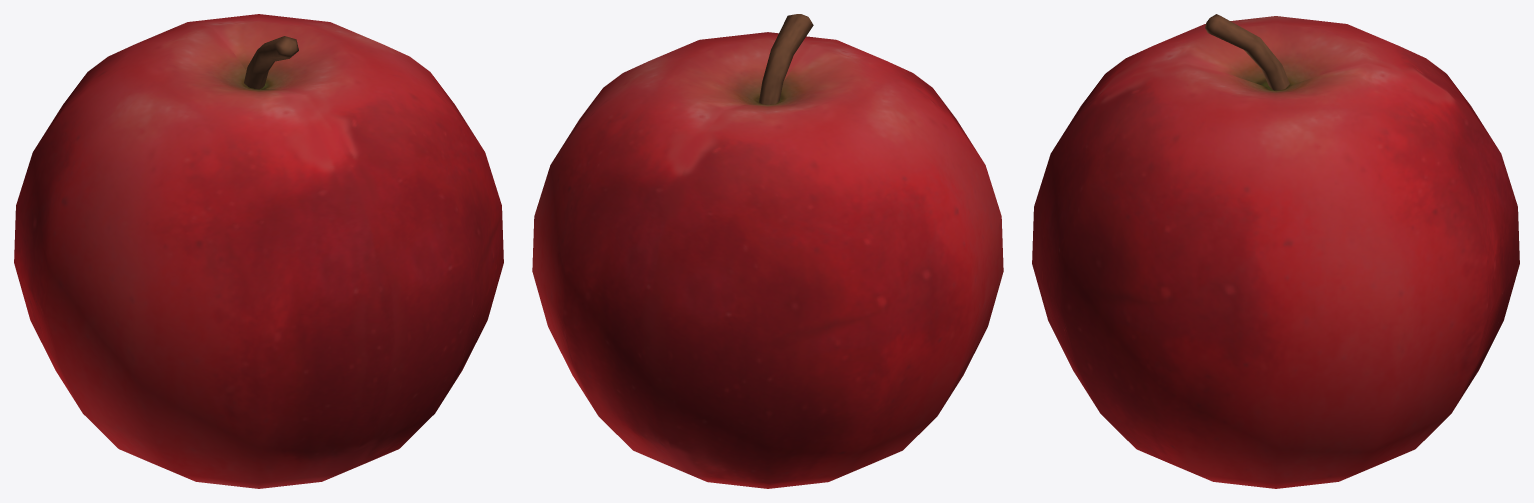
File: SM_Apple_Banana_01b.fbx
3 renders of one model, left to right at view 1: azimuth 30°, elevation 25°; view 2: azimuth 150°, elevation 25°; view 3: azimuth 270°, elevation 25°, orthographic. The views are drawn at different scales.
Parts seen in each view (by area): view 1: SM_Apple_Banana_01b_LOD0; view 2: SM_Apple_Banana_01b_LOD0; view 3: SM_Apple_Banana_01b_LOD0.
Boxes of the visible parts, x1,y1,x2,y2 form: SM_Apple_Banana_01b_LOD0: (14, 14, 503, 488); SM_Apple_Banana_01b_LOD0: (532, 14, 1003, 488); SM_Apple_Banana_01b_LOD0: (1032, 14, 1519, 488).
Size of the model in its own units: 9.36 by 9.36 by 9.28.
